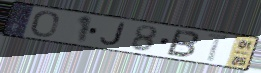1: (74, 15, 93, 46)
8: (129, 25, 160, 53)
B: (164, 28, 201, 59)
J: (99, 21, 127, 47)
O: (30, 10, 60, 38)
T: (204, 32, 234, 64)
